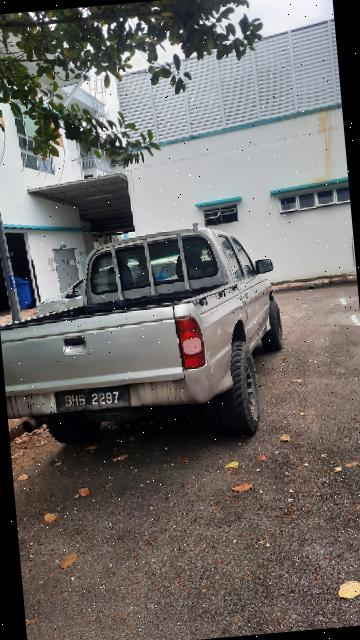License_Plate: (50, 383, 136, 417)
car: (2, 206, 295, 467)
